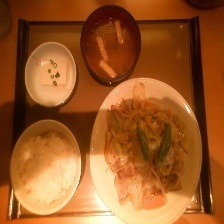rice: (12, 129, 79, 211)
